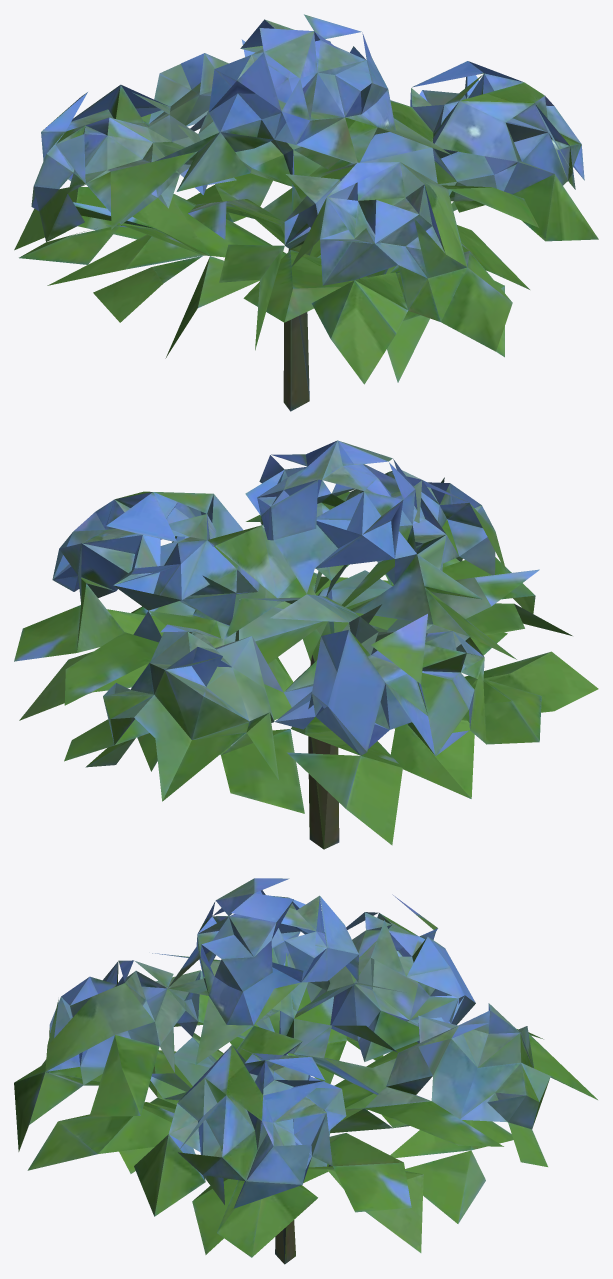
File: flower-hydrangea.glb
3 views of the same model, one above another, from view 1: azimuth 30°, elevation 25°; view 2: azimuth 150°, elevation 25°; view 3: azimuth 270°, elevation 25° (orthographic). The views are drawn at different scales.
Visible parts, largest first — view 1: flower-hydrangea-fit; view 2: flower-hydrangea-fit; view 3: flower-hydrangea-fit.
Part boxes in pixels (x1=…): flower-hydrangea-fit: x1=14, y1=14, x2=598, y2=411; flower-hydrangea-fit: x1=14, y1=440, x2=598, y2=849; flower-hydrangea-fit: x1=14, y1=878, x2=597, y2=1264.
Bounding box in the file's own units: 1.25 × 0.9 × 1.3.
Materials: 1 (1 with a texture image).
